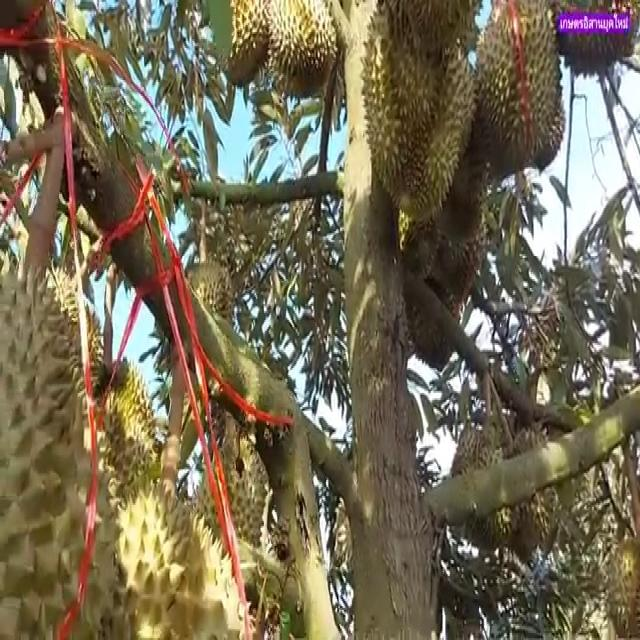durian: (0, 252, 124, 638), (75, 474, 252, 638), (362, 0, 481, 225), (462, 0, 563, 185), (82, 354, 166, 549), (180, 425, 266, 610), (444, 413, 524, 556), (493, 410, 562, 567), (260, 0, 344, 102), (180, 245, 236, 395), (207, 0, 278, 99), (597, 527, 639, 638)
